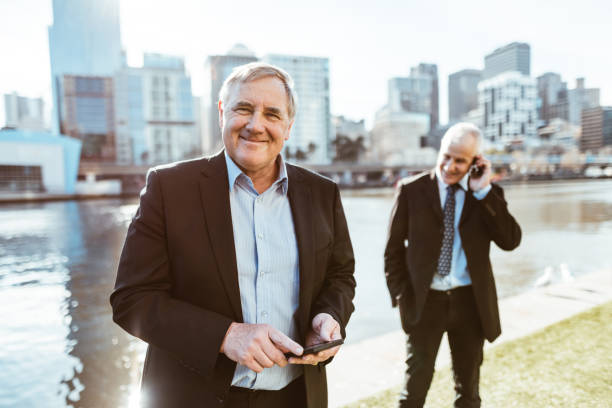phone: (471, 155, 487, 179)
talk: (440, 149, 495, 195)
